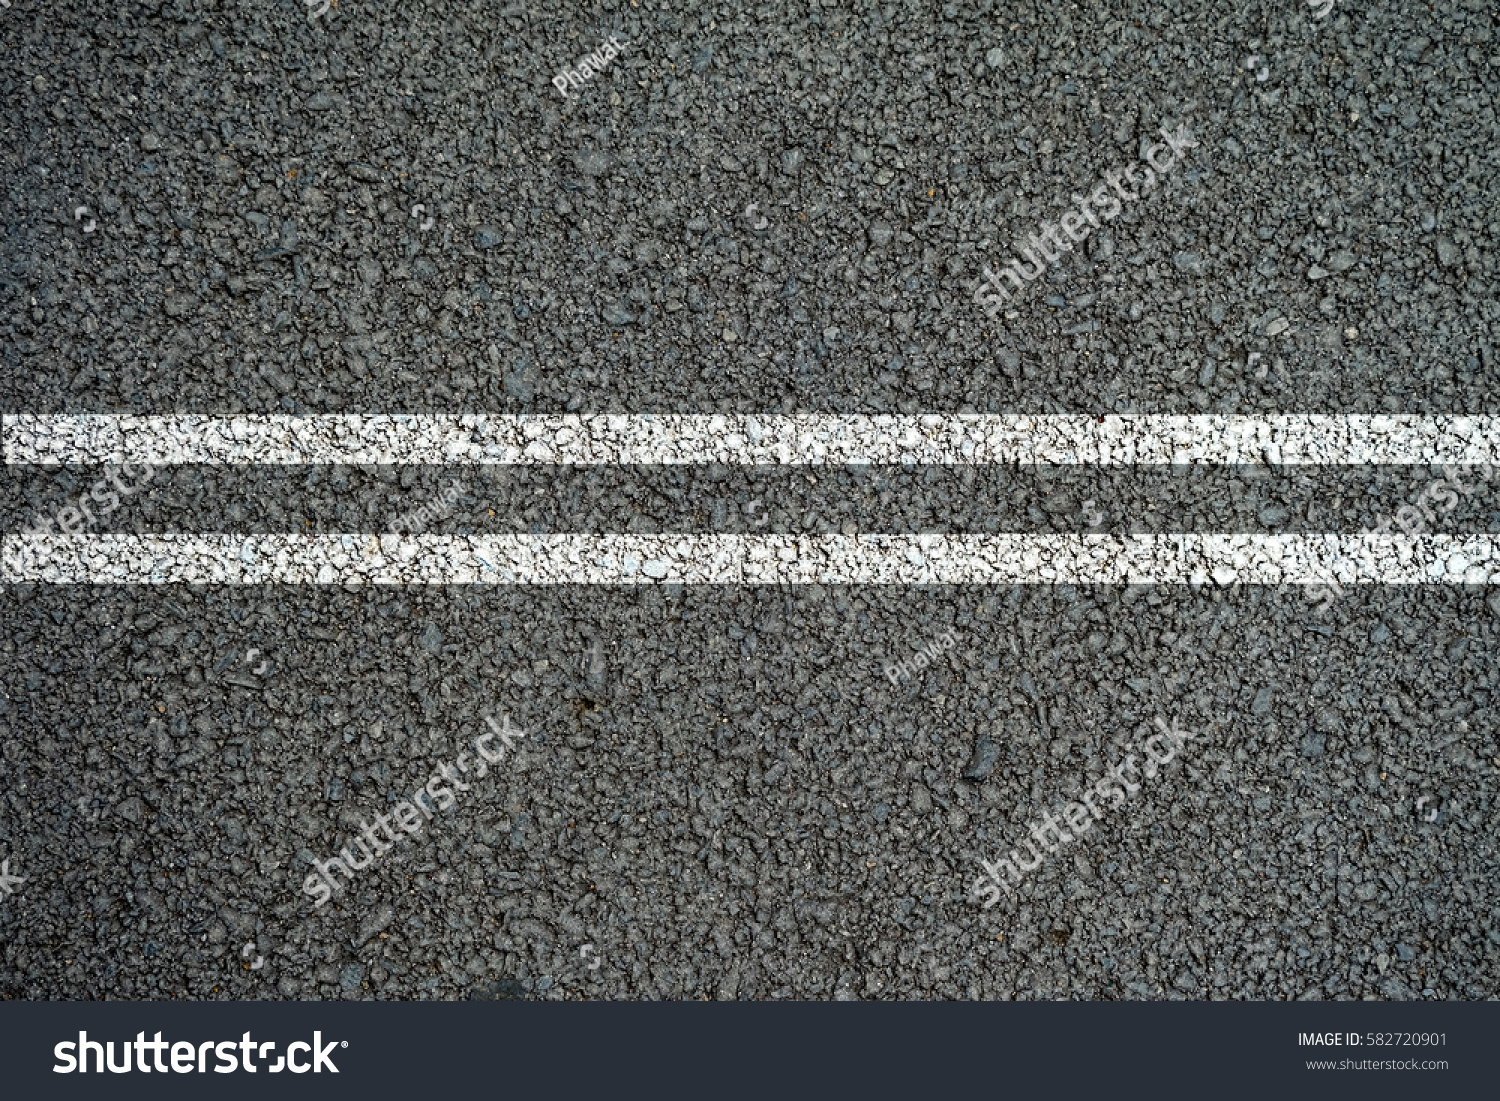LaneMark: (8, 412, 1500, 468), (6, 536, 1500, 586)
